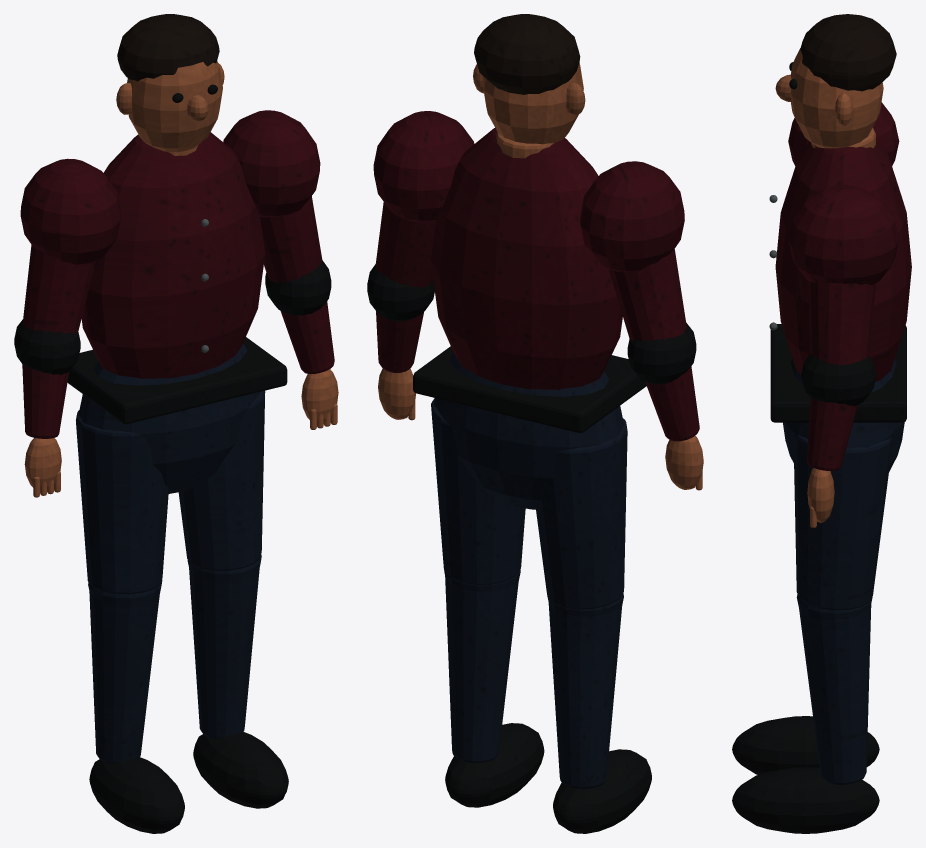
File: PROP-48E4A4110F9E_lod0.glb
3 renders of one model, left to right at view 1: azimuth 30°, elevation 25°; view 2: azimuth 150°, elevation 25°; view 3: azimuth 270°, elevation 25°, orthographic. The views are drawn at different scales.
Parts seen in each view (by area): view 1: torso.012, thigh.011, calf.011, shoulder.012, shoe.011, pelvis.011, upper_arm.012, belt.011, head.011, forearm.012, hair_cap.011, elbow_protection.007 (+3 smaller); view 2: torso.012, thigh.011, calf.011, shoulder.012, pelvis.011, shoe.011, upper_arm.012, belt.011, hair_cap.011, elbow_protection.007, forearm.012, head.011 (+4 smaller); view 3: torso.012, thigh.011, shoe.011, shoulder.012, calf.011, hair_cap.011, upper_arm.012, belt.011, head.011, elbow_protection.007, forearm.012, pelvis.011 (+3 smaller).
Part boxes in pixels (box(x1,y1,x2,y2)): torso.012: box(81, 132, 265, 378); thigh.011: box(76, 390, 265, 594); calf.011: box(89, 568, 259, 763); shoulder.012: box(20, 110, 320, 264); shoe.011: box(89, 732, 288, 833); pelvis.011: box(78, 343, 260, 493); upper_arm.012: box(22, 196, 322, 333); belt.011: box(67, 337, 287, 424); head.011: box(127, 61, 222, 152); forearm.012: box(22, 301, 334, 438); hair_cap.011: box(117, 14, 219, 81); elbow_protection.007: box(14, 260, 331, 374); torso.012: box(430, 128, 622, 389); thigh.011: box(431, 398, 627, 609); calf.011: box(445, 576, 622, 788); shoulder.012: box(373, 111, 684, 271); pelvis.011: box(434, 352, 623, 509); shoe.011: box(445, 723, 651, 833); upper_arm.012: box(375, 202, 686, 341); belt.011: box(413, 346, 646, 433); hair_cap.011: box(474, 14, 580, 94); elbow_protection.007: box(367, 264, 696, 384); forearm.012: box(376, 311, 699, 441); head.011: box(482, 62, 583, 144); torso.012: box(775, 140, 911, 381); thigh.011: box(793, 434, 892, 610); shoe.011: box(732, 716, 879, 833); shoulder.012: box(788, 102, 899, 285); calf.011: box(799, 604, 871, 784); hair_cap.011: box(800, 14, 896, 91); upper_arm.012: box(808, 281, 875, 365); belt.011: box(770, 324, 906, 422); head.011: box(790, 48, 883, 148); elbow_protection.007: box(801, 354, 876, 406); forearm.012: box(807, 398, 857, 470); pelvis.011: box(783, 358, 904, 471).
Size of the model in its own units: 0.7175 by 1.71 by 0.3561.
Materials: 6 (6 with a texture image).
